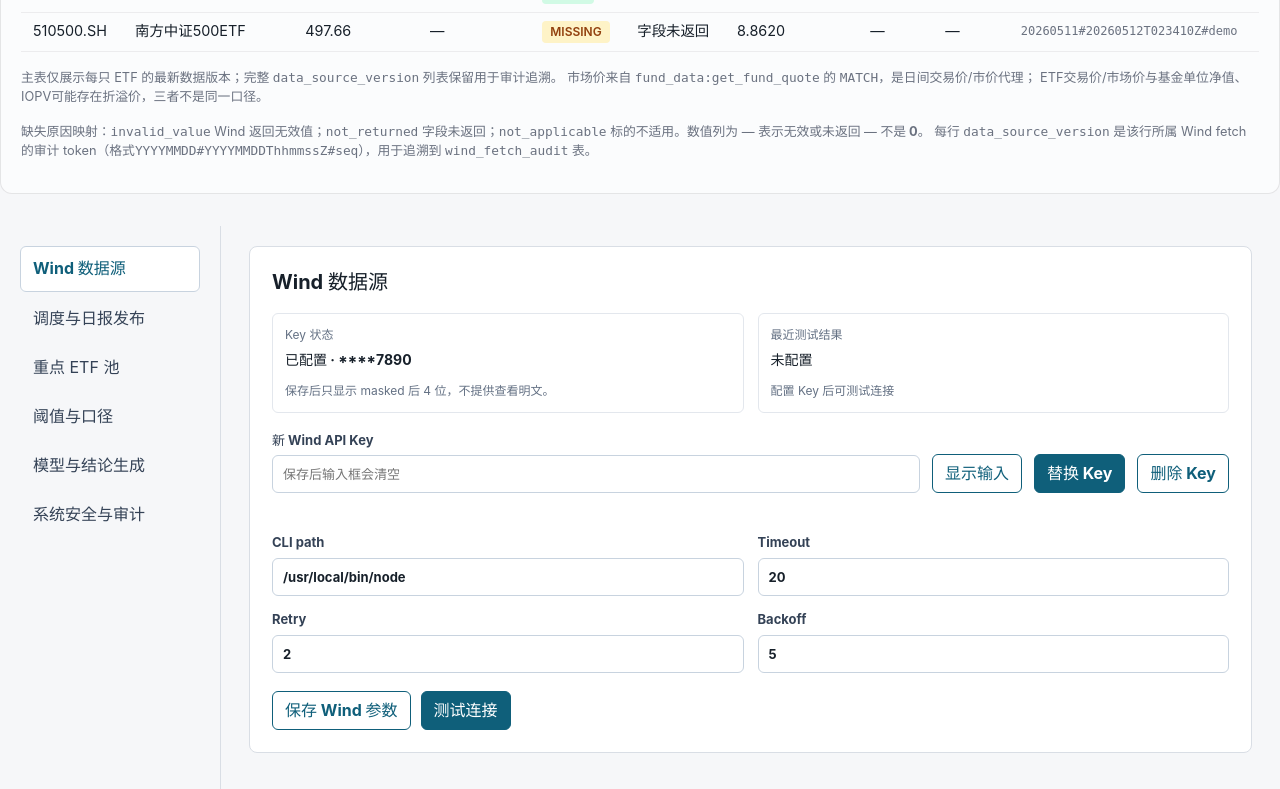
Test: config page › clears newly entered secrets after save and never stores key material locally
The width and height of the screenshot is (1280, 789).
(page scrolled)
Expected: the text "已配置 · ****7890" is shown, [285,351,412,368]
Type "ak_new_secret_1234564321" into the password field labelled "新 Wind API Key" at [596, 474], box [272,455,920,493]
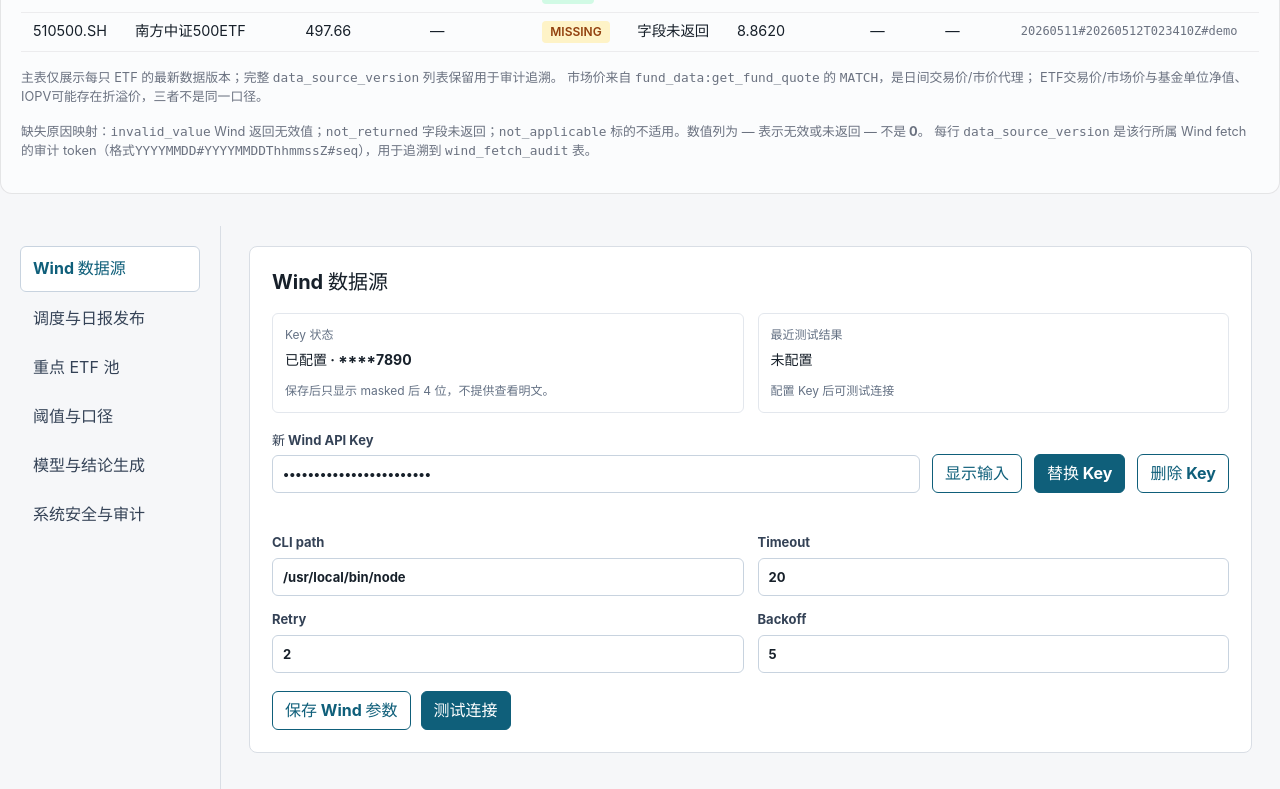
Click the button "替换 Key" at [1080, 474], box [1034,454,1125,493]
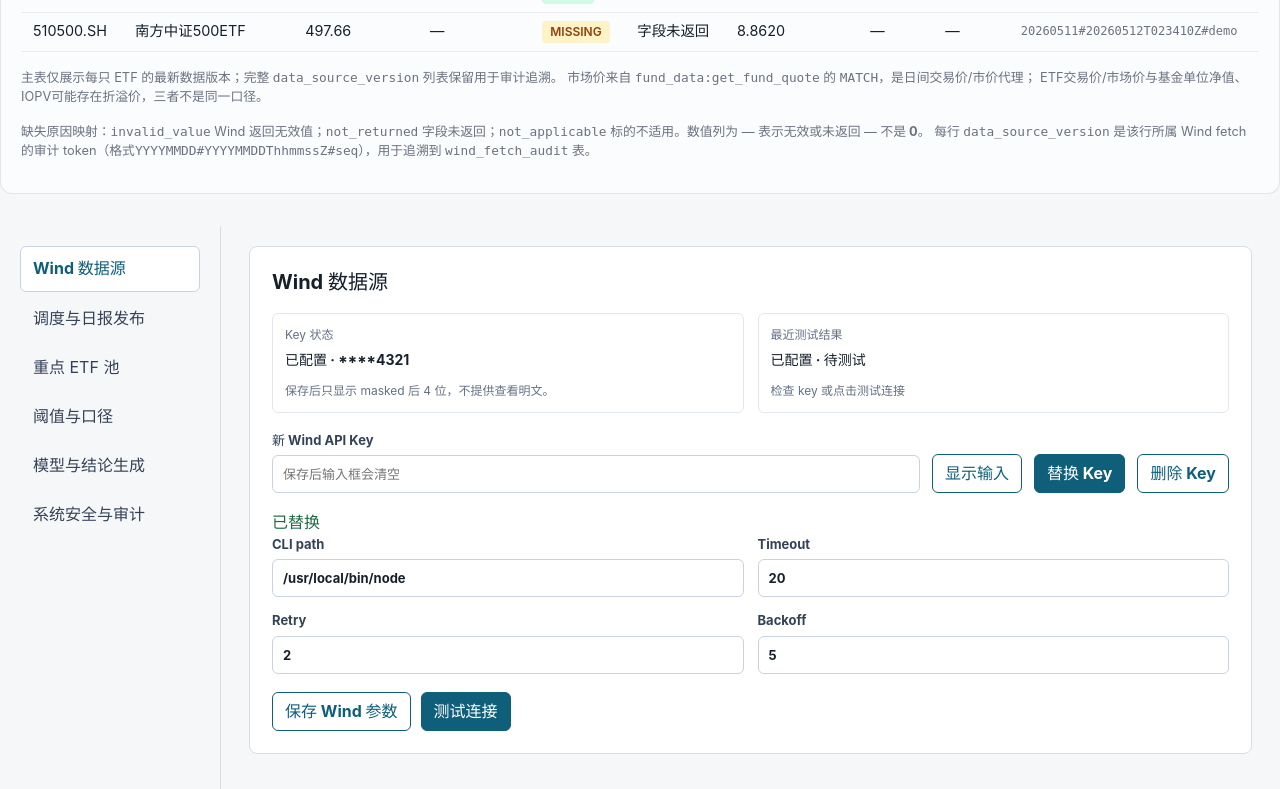
Expected: the password field labelled "新 Wind API Key" is empty, [272,455,920,493]
Expected: the text "已替换" is shown, [272,511,320,535]
Expected: the text "已配置 · ****4321" is shown, [285,351,409,368]
